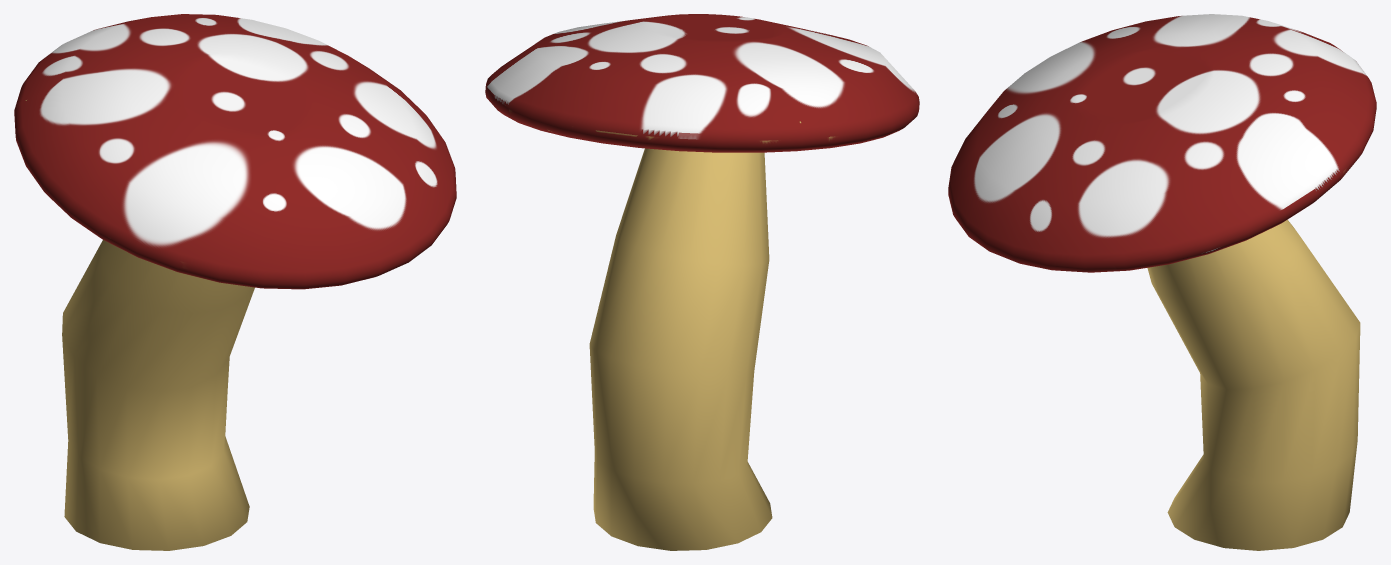
File: Mushroom.glb
3 renders of one model, left to right at view 1: azimuth 30°, elevation 25°; view 2: azimuth 150°, elevation 25°; view 3: azimuth 270°, elevation 25°, orthographic. The views are drawn at different scales.
Visible parts, largest first — view 1: Mushroom; view 2: Mushroom; view 3: Mushroom.
Boxes of the visible parts, <box> form: Mushroom: <box>14,14,456,550</box>; Mushroom: <box>485,14,919,550</box>; Mushroom: <box>948,14,1376,550</box>.
Bounding box in the file's own units: 0.0798 × 0.0916 × 0.078.
Materials: 1 (1 with a texture image).
